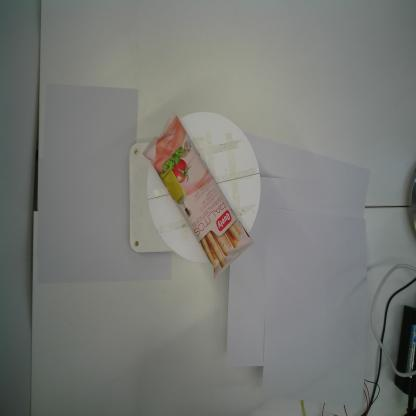Dessert: (141, 111, 254, 281)
